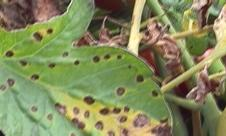Tomato Septoria leaf spot: (0, 0, 194, 136)
